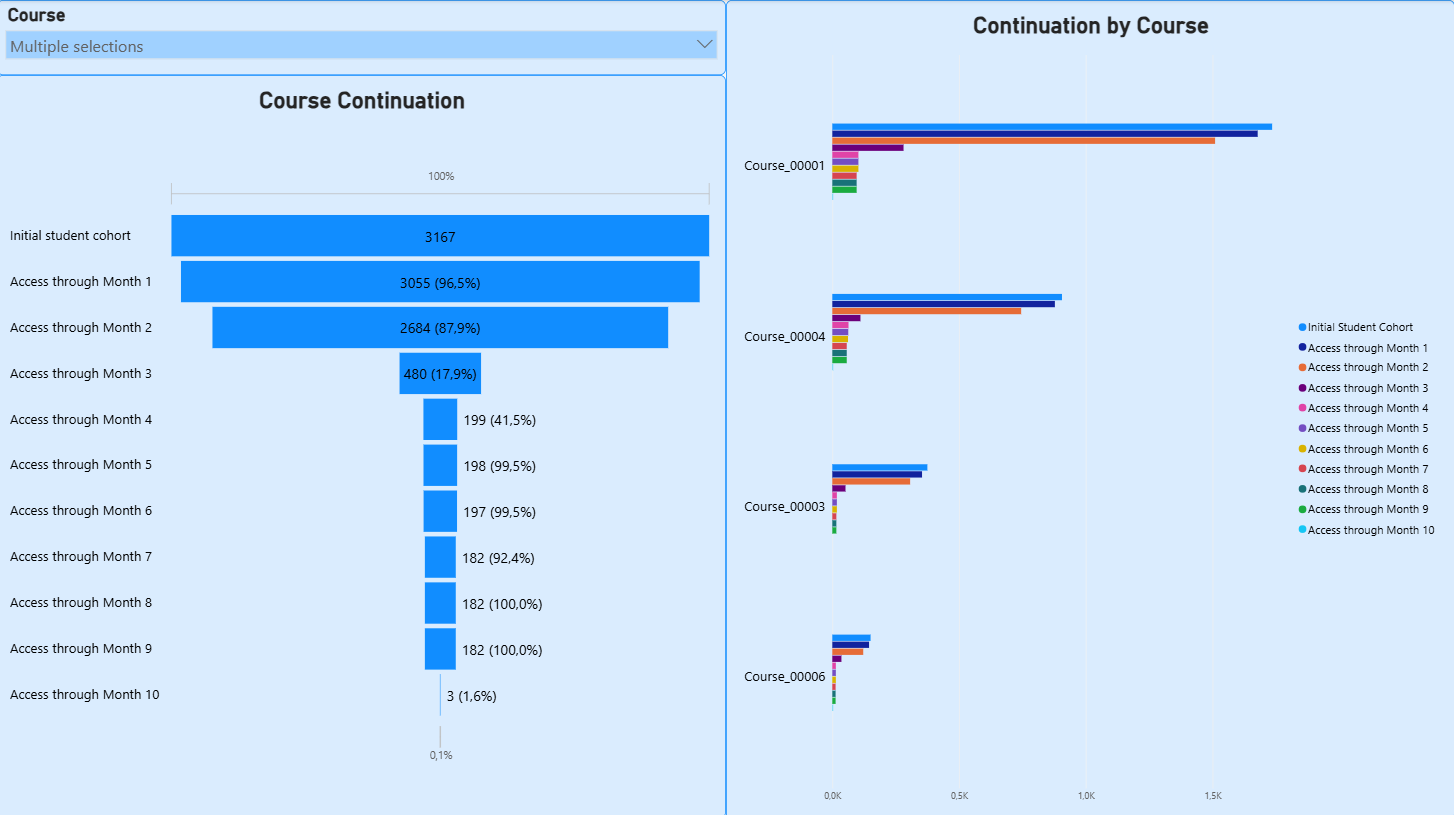

The page's visual inventory and layout, read from the dashboard file:
{"tool":"powerbi","page":{"name":"Course Continuation","canvas":[1920,1080],"ordinal":0},"visuals":[{"type":"funnel","title":"Course Continuation","fields":{"Category":["Continuation Stages.Stage"],"Y":["test_dataset.Students at сontinuation Stage"]},"box":[0,99.2,960,979],"z":0},{"type":"clusteredBarChart","title":"Continuation by Course","fields":{"Category":["test_dataset.course_name"],"Y":["Sum(test_dataset.month_0)","Sum(test_dataset.month_1)","Sum(test_dataset.month_2)","Sum(test_dataset.month_3)","Sum(test_dataset.month_4)","Sum(test_dataset.month_5)","Sum(test_dataset.month_6)","Sum(test_dataset.month_7)","Sum(test_dataset.month_8)","Sum(test_dataset.month_9)","Sum(test_dataset.month_10)"]},"box":[960,0,960,1078.8],"z":1000},{"type":"slicer","fields":{"Values":["test_dataset.course_name"]},"box":[0,0,960,99.2],"z":2000}]}

Visuals, with their boxes in screenshot pixels (x1, y1, x2, y2), scaled from the page's 1920x1080 canvas onto the 1454x815 screenshot:
"Course Continuation" funnel: 0 75 727 814
"Continuation by Course" clusteredBarChart: 727 0 1453 814
slicer - test_dataset.course_name: 0 0 727 75
